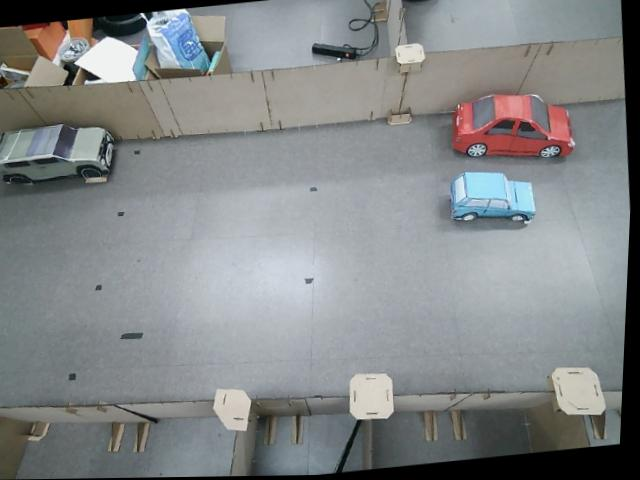car: (445, 85, 578, 168), (0, 118, 118, 187), (446, 165, 537, 229)
